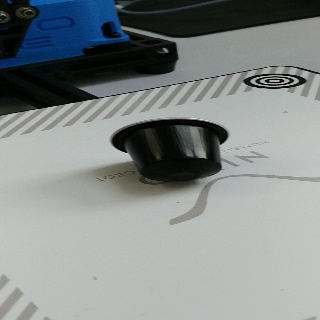capsule_10: (109, 116, 231, 182)
